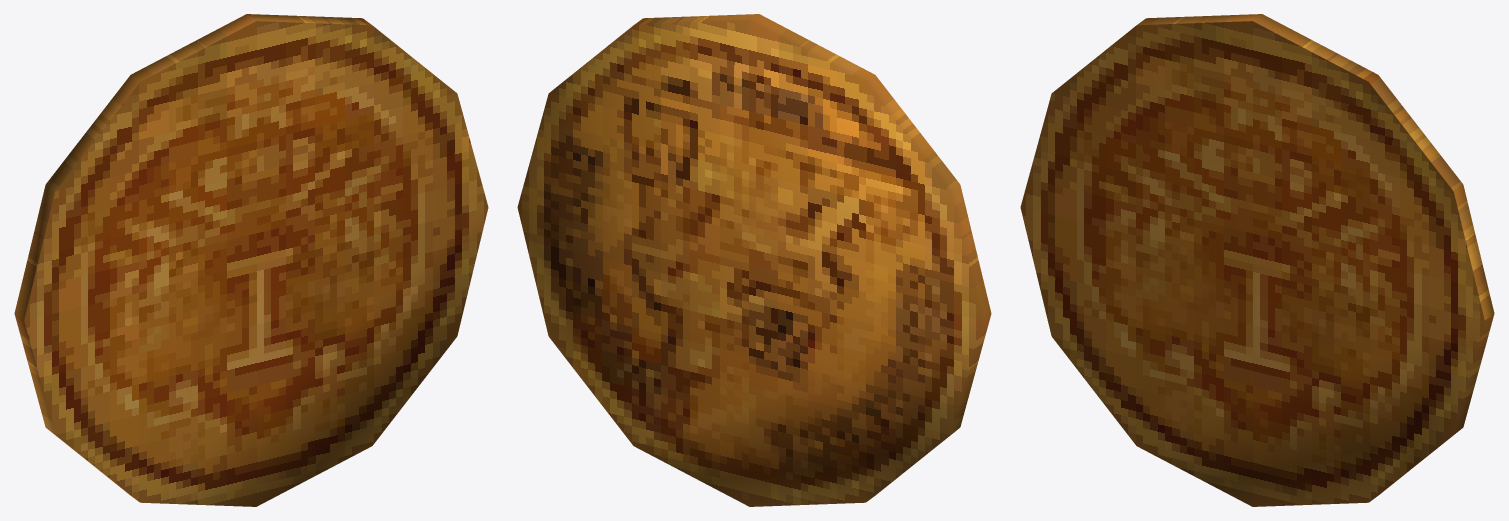
Rendered from st_coin1.glb.
The picture shows the model from 3 angles, left to right: view 1: azimuth 30°, elevation 25°; view 2: azimuth 150°, elevation 25°; view 3: azimuth 330°, elevation 25°; orthographic projection.
Parts seen in each view (by area): view 1: st_coin1; view 2: st_coin1; view 3: st_coin1.
Boxes of the visible parts, x1,y1,x2,y2 form: st_coin1: (14, 14, 488, 506); st_coin1: (517, 14, 991, 506); st_coin1: (1020, 14, 1494, 506).
Bounding box in the file's own units: 0.3523 × 0.3523 × 0.0127.
Materials: 2 (2 with a texture image).
